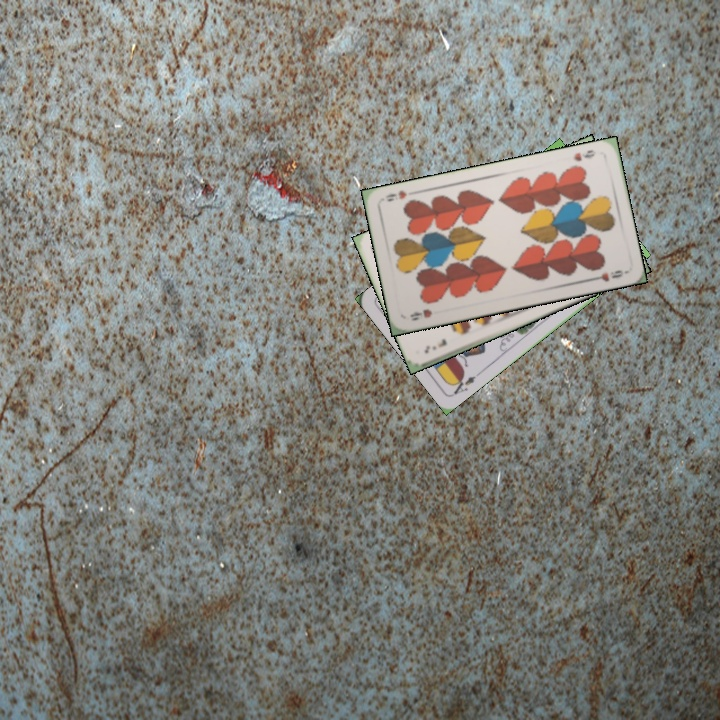E7: (420, 334, 449, 356)
EA: (447, 368, 483, 397)
H9: (570, 145, 598, 164), (406, 305, 435, 323)
